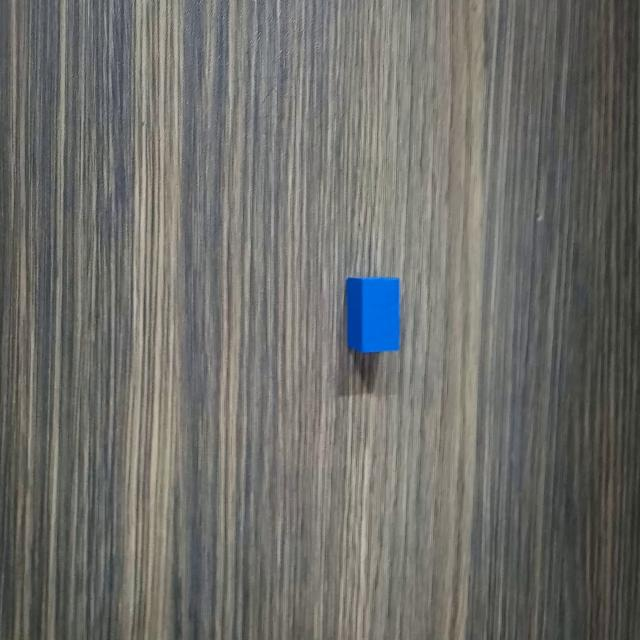cube: (344, 272, 403, 357)
